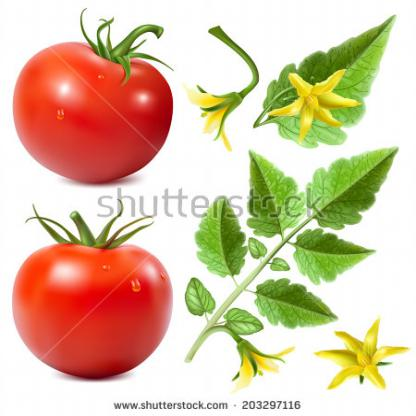tomato leaf: (229, 146, 319, 250), (306, 135, 405, 225), (276, 229, 412, 283), (190, 189, 252, 290), (255, 277, 354, 333)
